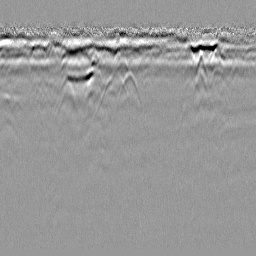cavity: (117, 70, 142, 109)
